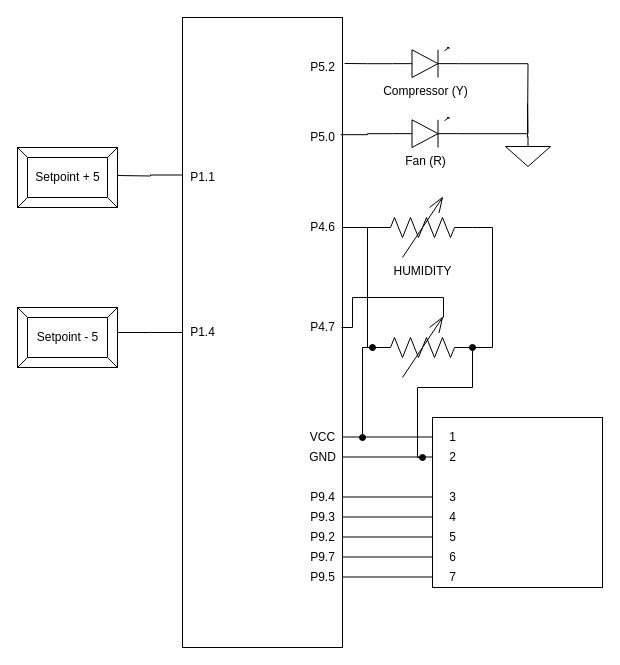
The diagram is 620 pixels wide and 665 high, and some of its shapes have lost their labels. Each missing label, with the box of its shape:
MSP 432: (182, 16, 342, 648)
Nokia 5110: (432, 416, 602, 588)
TEMP: (372, 316, 472, 378)
